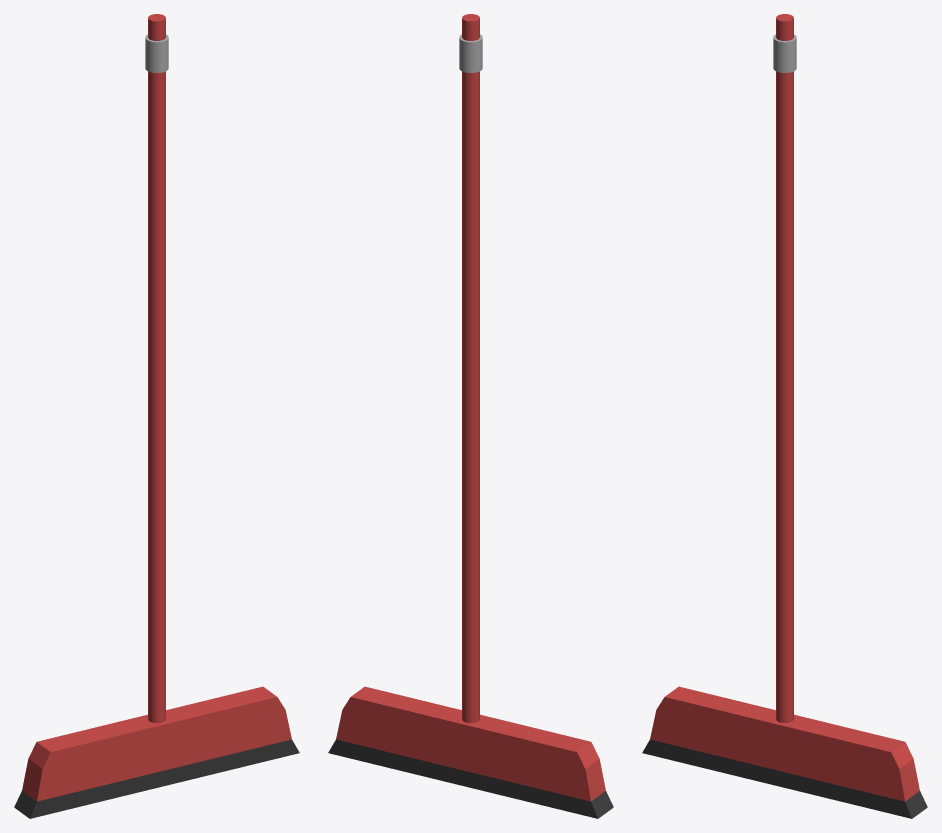
Rendered from Rodo.fbx.
3 renders of one model, left to right at view 1: azimuth 30°, elevation 25°; view 2: azimuth 150°, elevation 25°; view 3: azimuth 330°, elevation 25°, orthographic.
Visible parts, largest first — view 1: Esfregao, Cabo_Rodo; view 2: Esfregao, Cabo_Rodo; view 3: Esfregao, Cabo_Rodo.
Boxes of the visible parts, x1=… form: Esfregao: x1=14, y1=686, x2=299, y2=818; Cabo_Rodo: x1=145, y1=14, x2=168, y2=722; Esfregao: x1=328, y1=686, x2=613, y2=818; Cabo_Rodo: x1=459, y1=14, x2=482, y2=722; Esfregao: x1=642, y1=686, x2=927, y2=818; Cabo_Rodo: x1=773, y1=14, x2=796, y2=722.
Size of the model in its own units: 638 by 1721 by 64.72.
